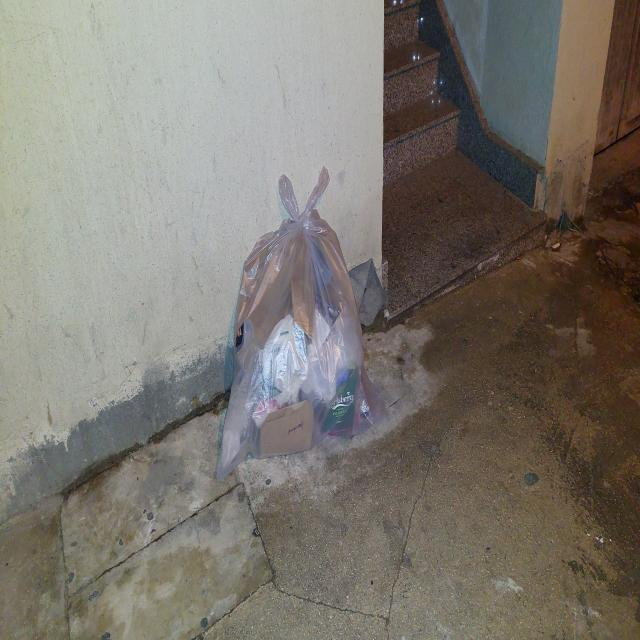Recycled Waste -Grey or Green Bag-: (217, 163, 393, 479)
